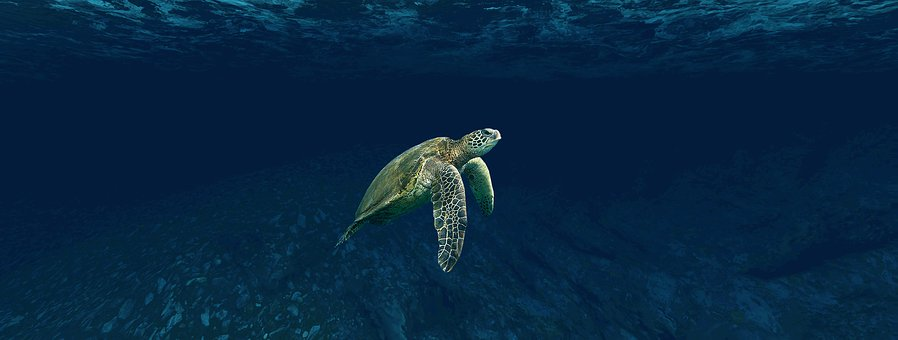trutle: (326, 121, 543, 275)
